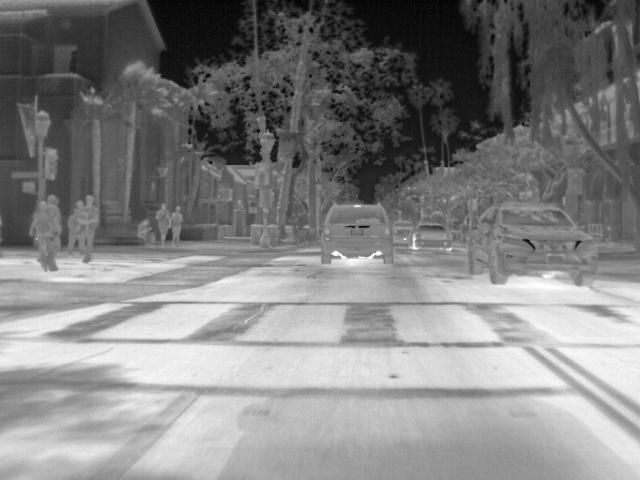car: (469, 204, 598, 292), (319, 204, 397, 266), (411, 223, 453, 252), (394, 219, 416, 239)
person: (39, 195, 65, 272), (76, 194, 100, 264), (155, 200, 171, 248), (63, 213, 80, 253), (167, 206, 183, 248), (136, 217, 152, 243)
